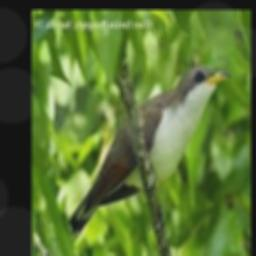Cuckoo: (42, 65, 230, 256)
